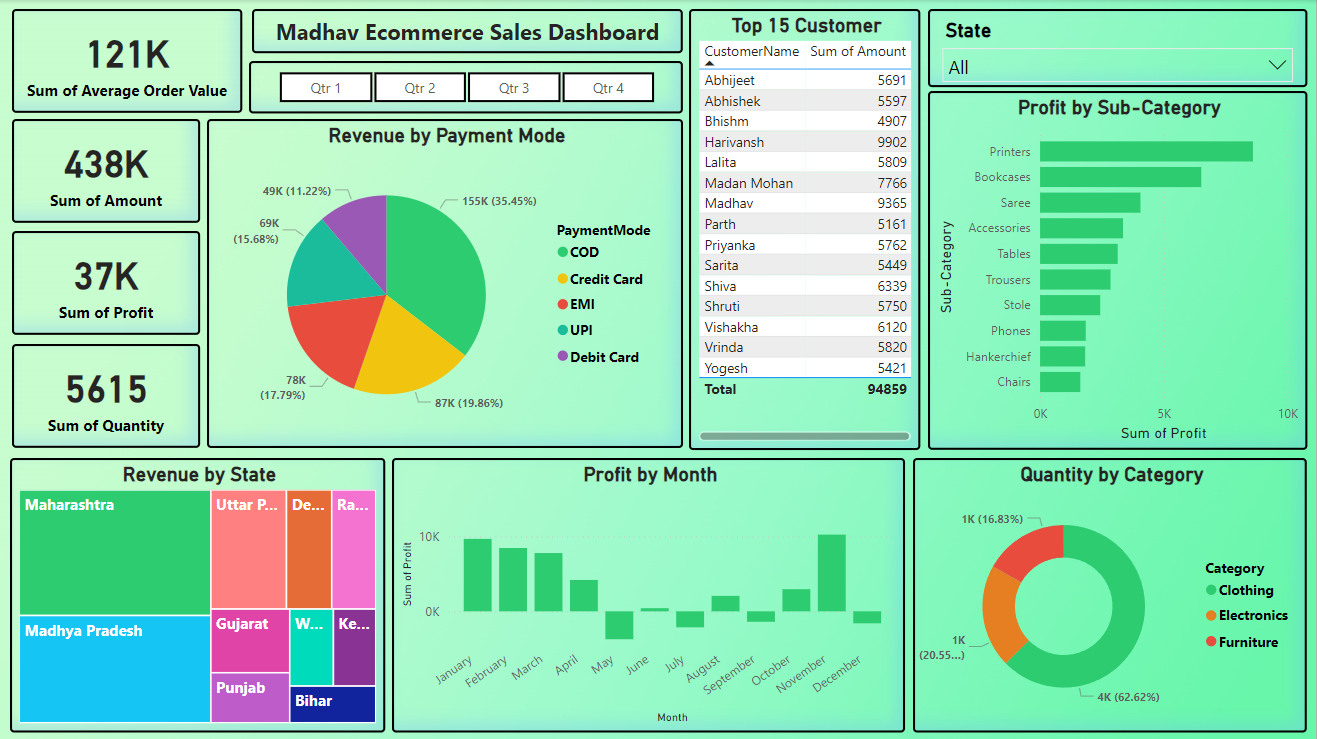

This screenshot's page, from the dashboard's own definition file:
{"tool":"powerbi","page":{"name":"Madhav_Ecommerce_sales_Dashboard","canvas":[1280,720],"ordinal":0},"visuals":[{"type":"image","box":[0,0,1280,719.8],"z":0},{"type":"card","fields":{"Values":["Details.Amount"]},"box":[11.7,115.7,182.9,101.2],"z":1000},{"type":"card","fields":{"Values":["Details.Profit"]},"box":[11.7,224.7,182.9,101.2],"z":2000},{"type":"card","fields":{"Values":["Details.Quantity"]},"box":[11.7,334.6,182.9,101.2],"z":3000},{"type":"card","fields":{"Values":["Details.Average Order Value"]},"box":[11.7,8.8,223.7,101.2],"z":4000},{"type":"columnChart","title":"Profit by Month","fields":{"Category":["Orders.Order Date.Variation.Date Hierarchy.Month"],"Y":["Details.Profit"]},"box":[381.3,445.5,499,266.5],"z":5000},{"type":"tableEx","title":"Top 15 Customer","fields":{"Values":["Orders.CustomerName","Details.Amount"]},"box":[670.2,8.8,224.7,428.9],"z":6000},{"type":"donutChart","title":"Quantity by Category","fields":{"Y":["Details.Quantity"],"Category":["Details.Category"]},"box":[888,445.5,383.2,266.5],"z":7000},{"type":"pieChart","title":"Revenue by Payment Mode","fields":{"Category":["Details.PaymentMode"],"Y":["Details.Amount"]},"box":[201.3,115.7,463,320],"z":8000},{"type":"treemap","title":"Revenue by State","fields":{"Group":["Orders.State"],"Values":["Details.Amount"]},"box":[9.7,445.5,364.7,266.5],"z":9000},{"type":"barChart","title":"Profit by Sub-Category","fields":{"Category":["Details.Sub-Category"],"Y":["Details.Profit"]},"box":[902.6,88.5,368.6,349.2],"z":10000},{"type":"slicer","fields":{"Values":["Orders.Order Date.Variation.Date Hierarchy.Quarter"]},"box":[242.2,59.3,422.1,50.6],"z":11000},{"type":"textbox","box":[245.1,8.8,419.2,42.8],"z":12000},{"type":"slicer","fields":{"Values":["Orders.State"]},"box":[902.6,8.8,368.6,75.9],"z":13000}]}

Visuals, with their boxes in screenshot pixels (x1, y1, x2, y2), scaled from the page's 1280x720 canvas onto the 1317x739 screenshot:
image: box(0, 0, 1316, 738)
card - Details.Amount: box(12, 119, 200, 223)
card - Details.Profit: box(12, 231, 200, 335)
card - Details.Quantity: box(12, 343, 200, 447)
card - Details.Average Order Value: box(12, 9, 242, 113)
"Profit by Month" columnChart: box(392, 457, 906, 731)
"Top 15 Customer" tableEx: box(690, 9, 921, 449)
"Quantity by Category" donutChart: box(914, 457, 1308, 731)
"Revenue by Payment Mode" pieChart: box(207, 119, 684, 447)
"Revenue by State" treemap: box(10, 457, 385, 731)
"Profit by Sub-Category" barChart: box(929, 91, 1308, 449)
slicer - Orders.Order Date.Variation.Date Hierarchy.Quarter: box(249, 61, 684, 113)
textbox: box(252, 9, 684, 53)
slicer - Orders.State: box(929, 9, 1308, 87)
